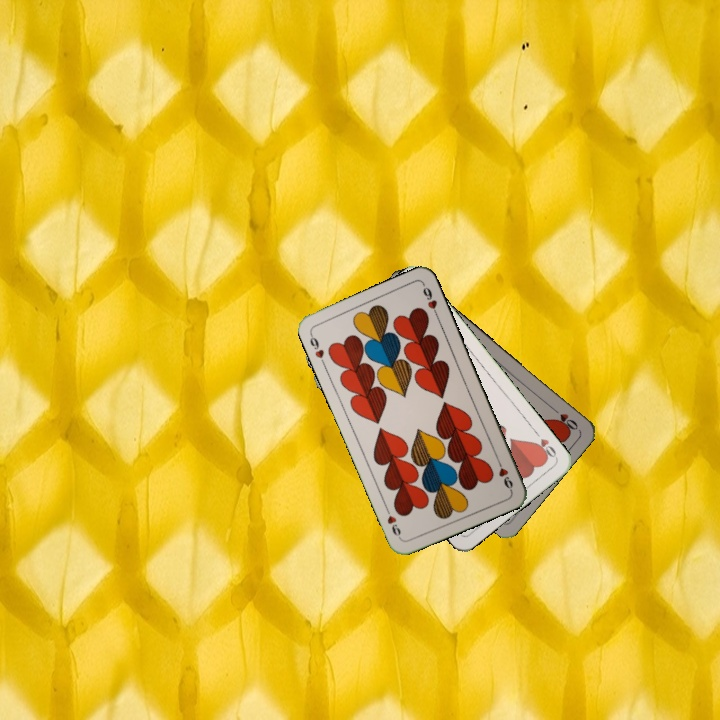H9: (493, 454, 516, 493), (306, 329, 327, 361)
HO: (547, 402, 581, 433), (530, 426, 559, 462)
